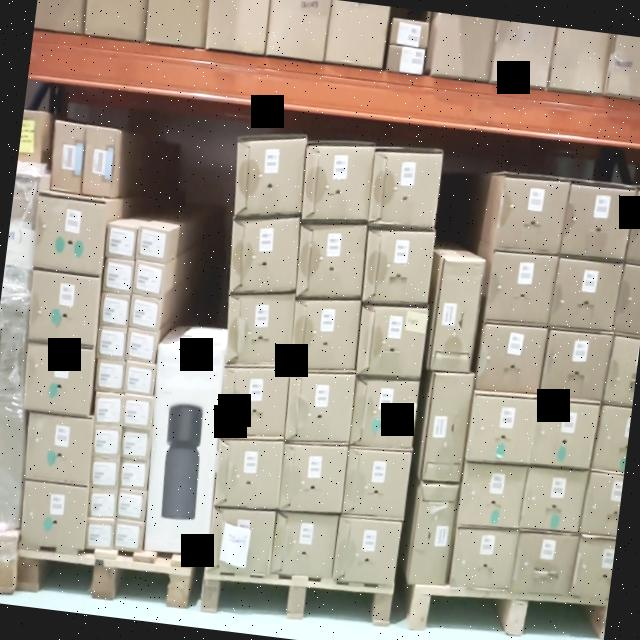box: (132, 342, 230, 555), (428, 258, 486, 374), (486, 248, 564, 330), (19, 268, 102, 345), (358, 226, 436, 305), (369, 148, 443, 231), (495, 172, 569, 255), (32, 199, 110, 277), (563, 182, 635, 266), (233, 140, 304, 223), (22, 411, 98, 487), (18, 346, 97, 418), (224, 218, 300, 292), (356, 300, 430, 376), (302, 148, 374, 224), (296, 226, 366, 304), (341, 444, 411, 522), (421, 377, 472, 483), (46, 124, 118, 198), (289, 302, 364, 373), (220, 366, 289, 442), (221, 296, 294, 366), (205, 506, 277, 576), (352, 376, 421, 449), (18, 481, 92, 549), (474, 325, 548, 393), (408, 484, 458, 584), (272, 504, 341, 576), (468, 390, 536, 463), (545, 329, 611, 402), (532, 399, 596, 474), (452, 520, 518, 592), (457, 460, 525, 529), (214, 442, 282, 509), (555, 259, 623, 326), (282, 439, 347, 509), (286, 374, 356, 438), (520, 468, 584, 536), (511, 532, 573, 600), (334, 520, 400, 582), (117, 457, 152, 493), (132, 260, 164, 298), (128, 296, 160, 334), (115, 486, 148, 520), (106, 222, 138, 256), (136, 228, 168, 262), (102, 256, 134, 290), (88, 484, 120, 518), (90, 392, 124, 423), (112, 520, 143, 554), (124, 393, 154, 428), (84, 519, 117, 550), (94, 359, 126, 390), (123, 364, 154, 396), (101, 291, 129, 326), (94, 426, 122, 458), (118, 432, 150, 459), (99, 328, 128, 357), (92, 461, 121, 490), (128, 331, 158, 359)
